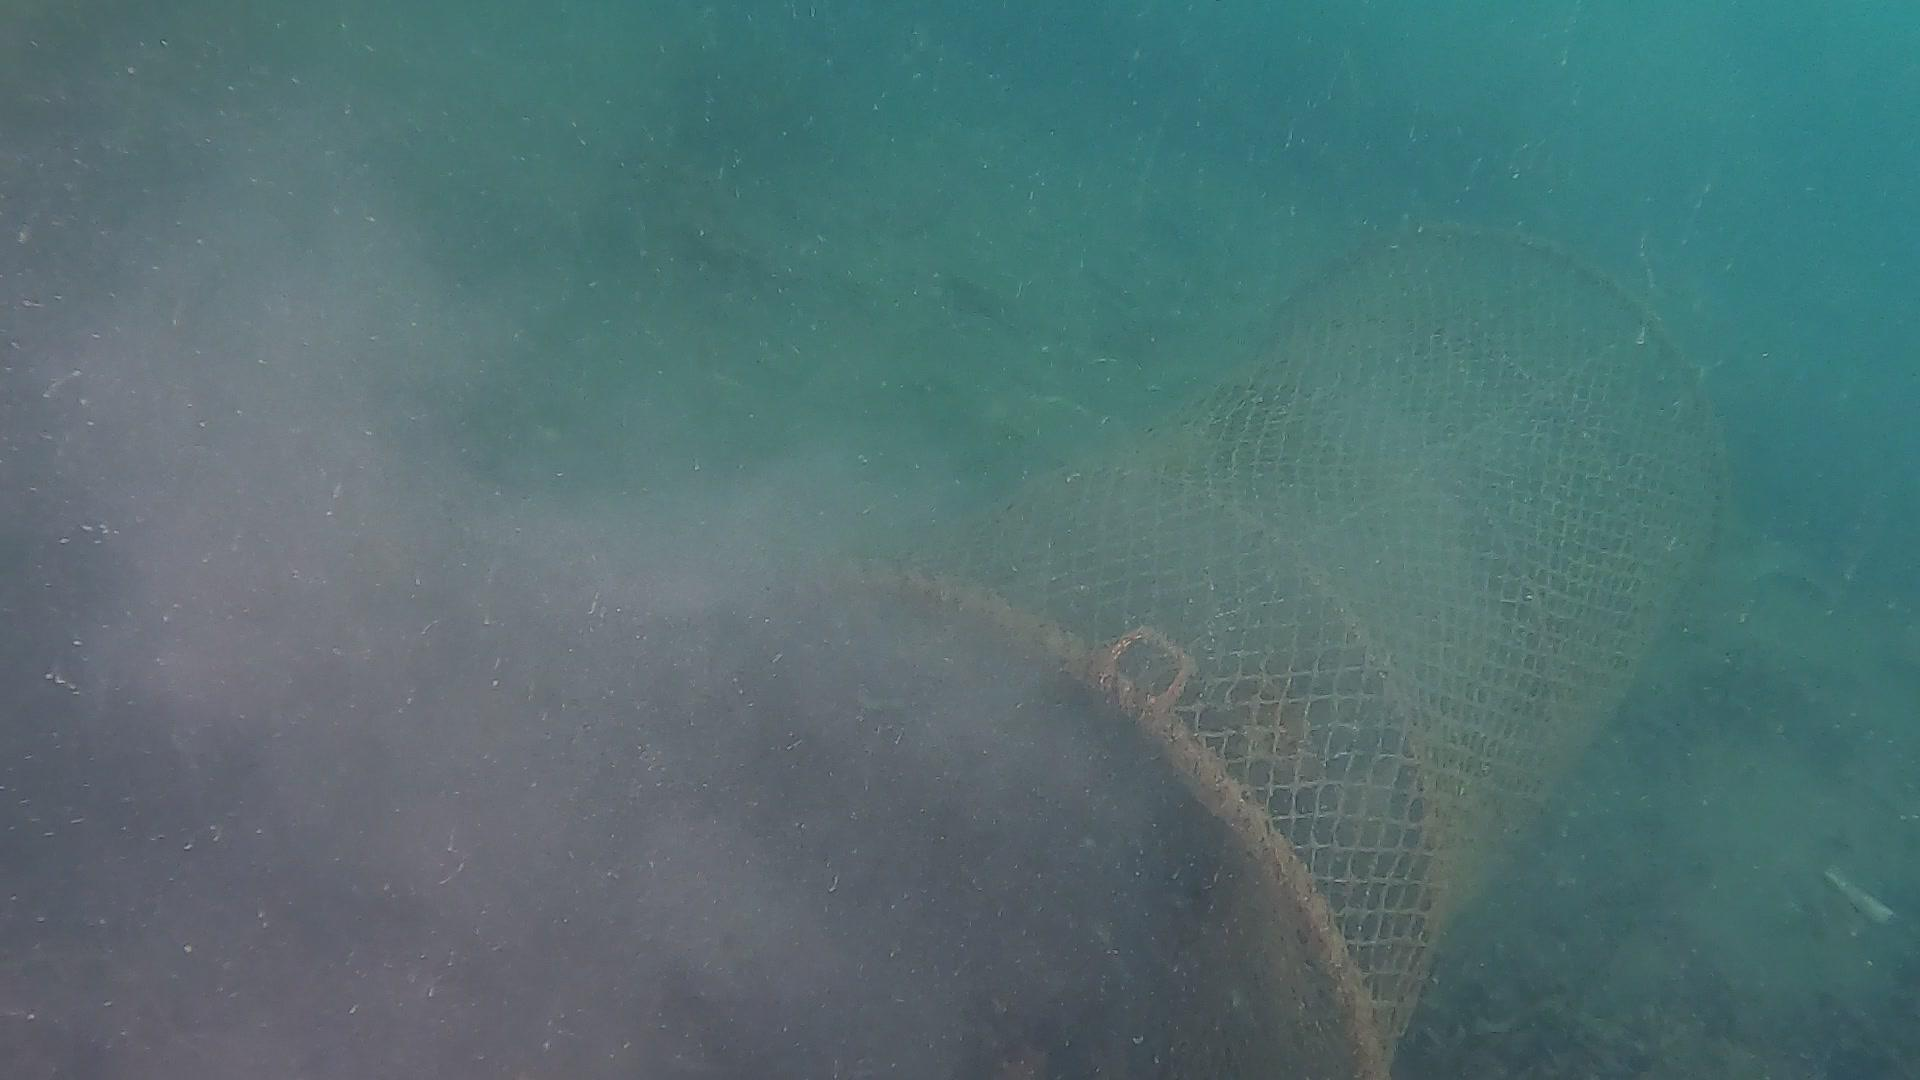spring fish trap: (686, 211, 1735, 1080)
